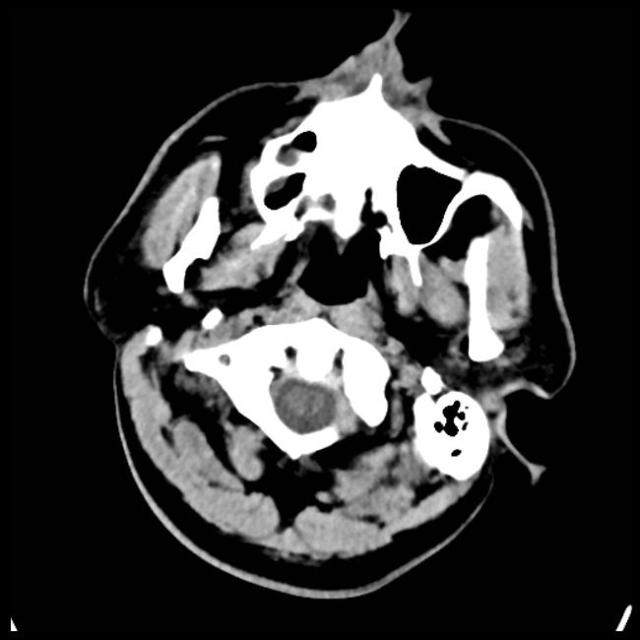lesion: (82, 13, 579, 596)
